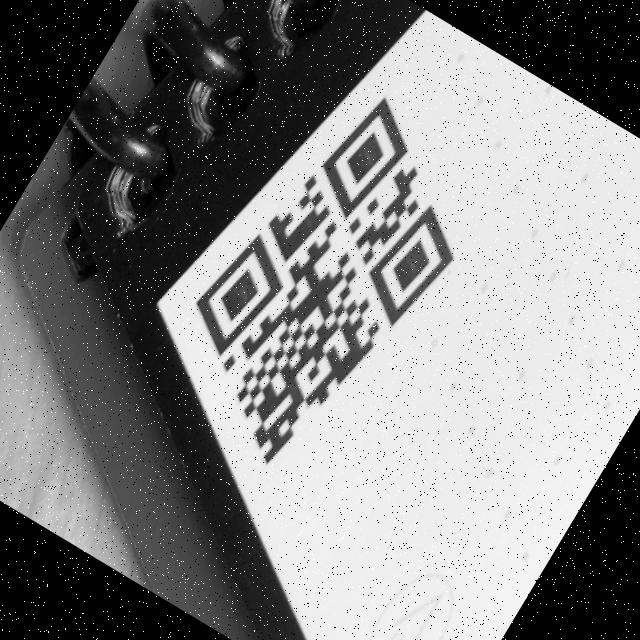QR-codes: (142, 65, 511, 497)
